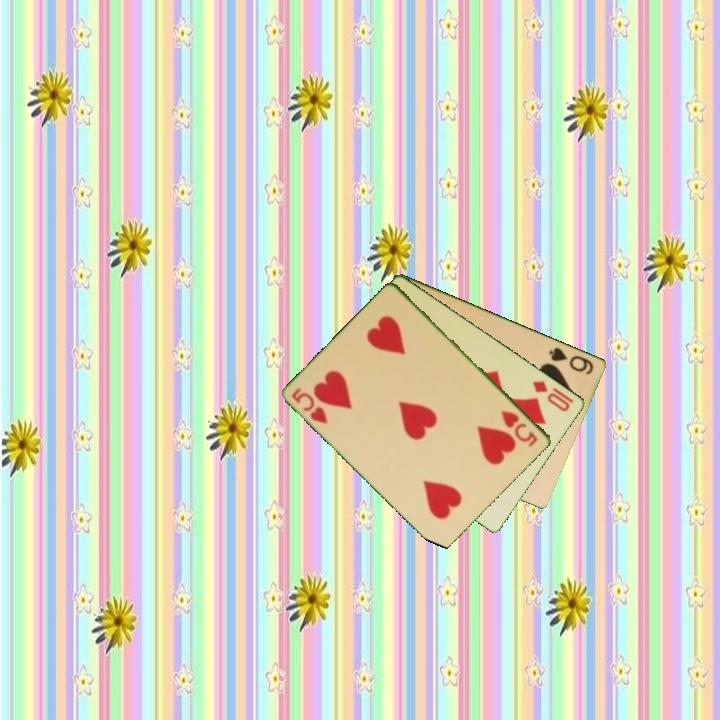10d: (529, 377, 573, 415)
5h: (498, 407, 541, 450), (289, 384, 331, 427)
6s: (546, 344, 597, 377)
